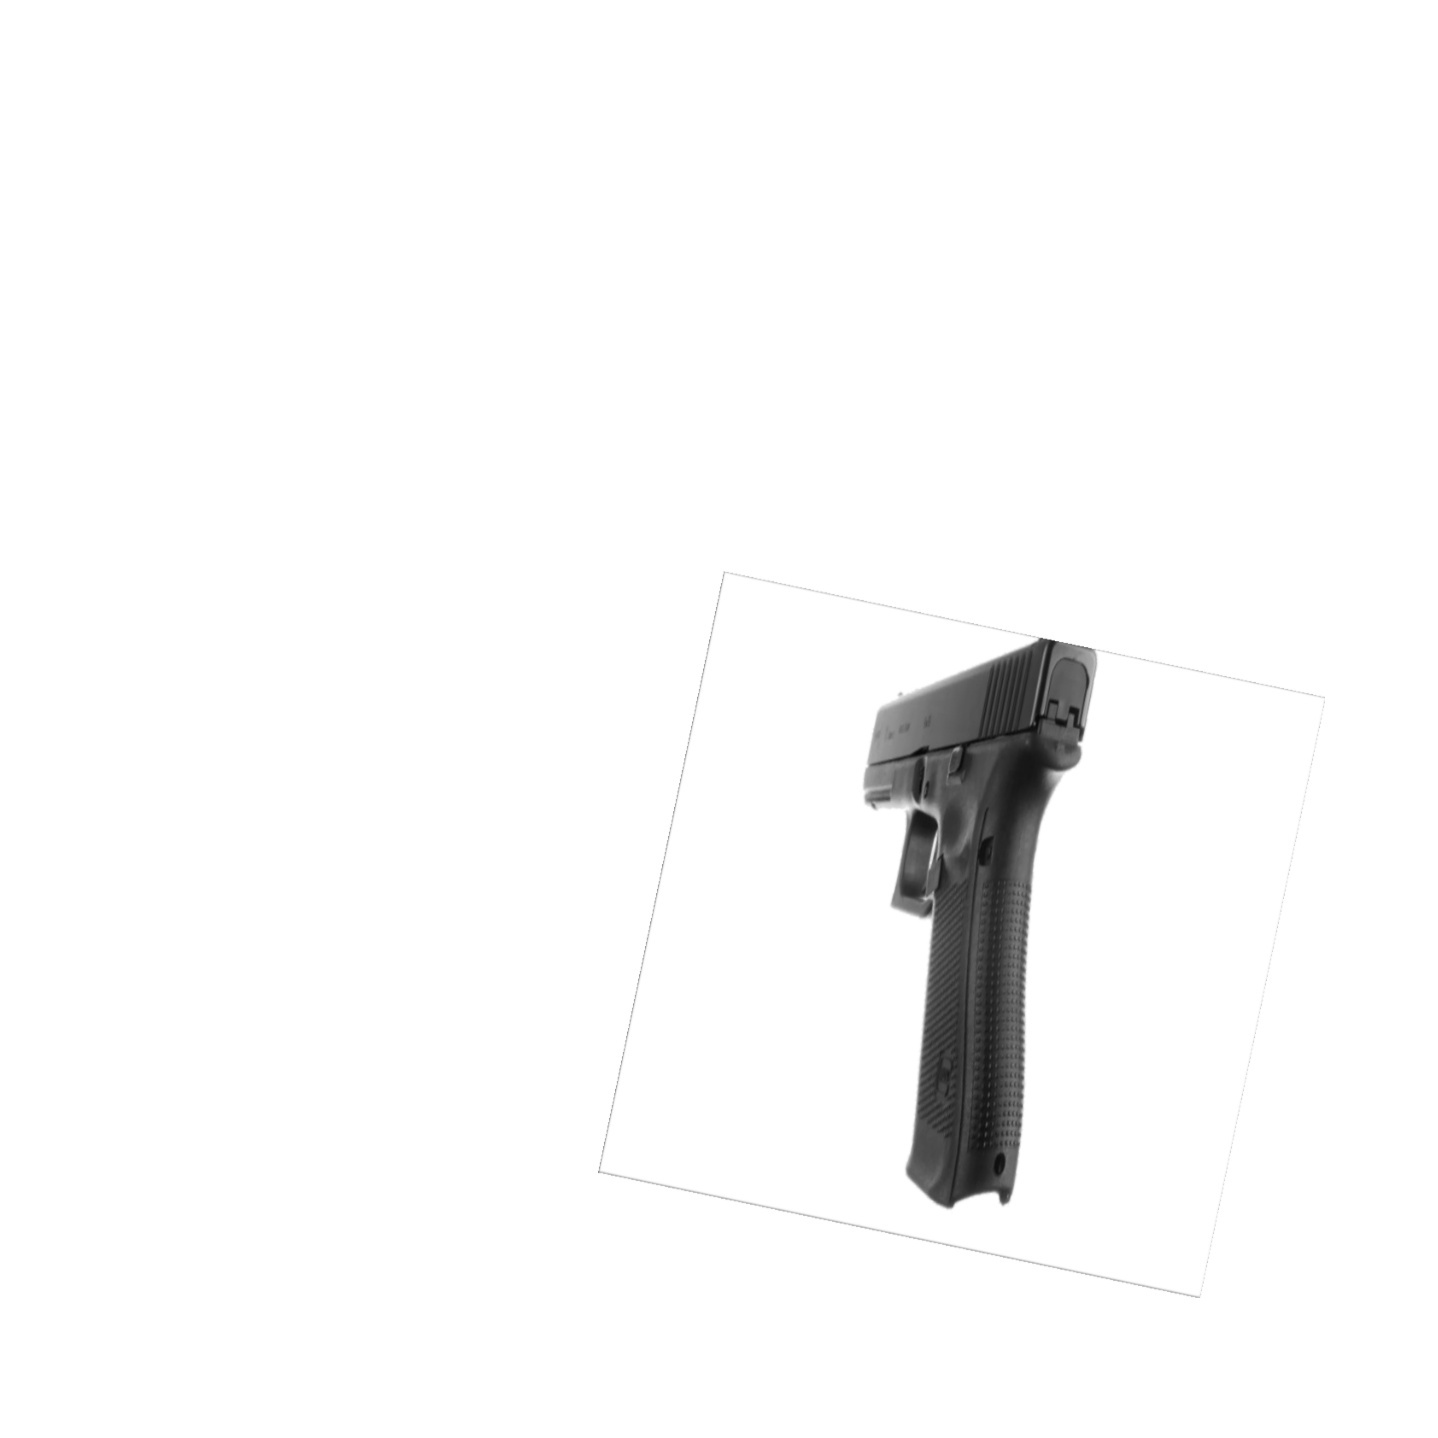gun: (856, 633, 1102, 1218)
